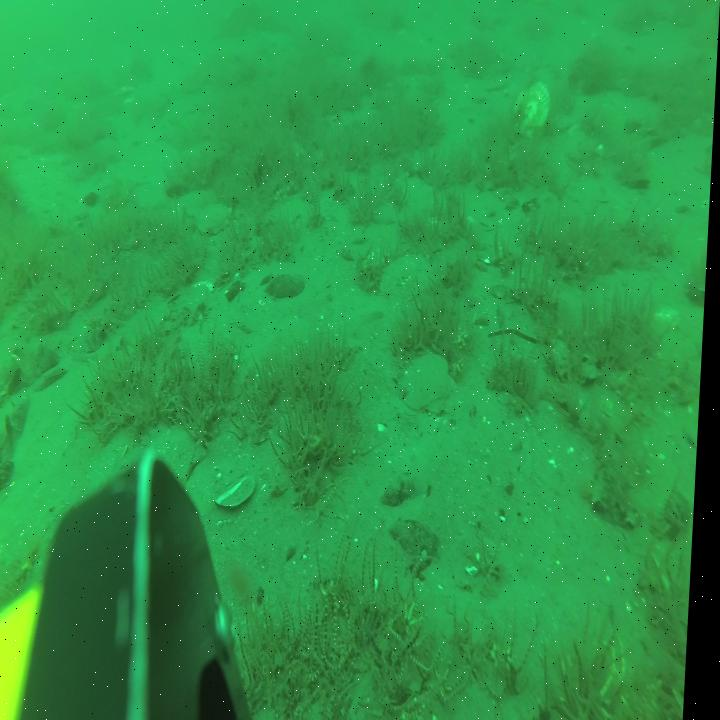scallop: (148, 426, 210, 504), (404, 356, 459, 408), (385, 251, 438, 302), (513, 81, 552, 140), (201, 201, 235, 236), (181, 189, 218, 220)
